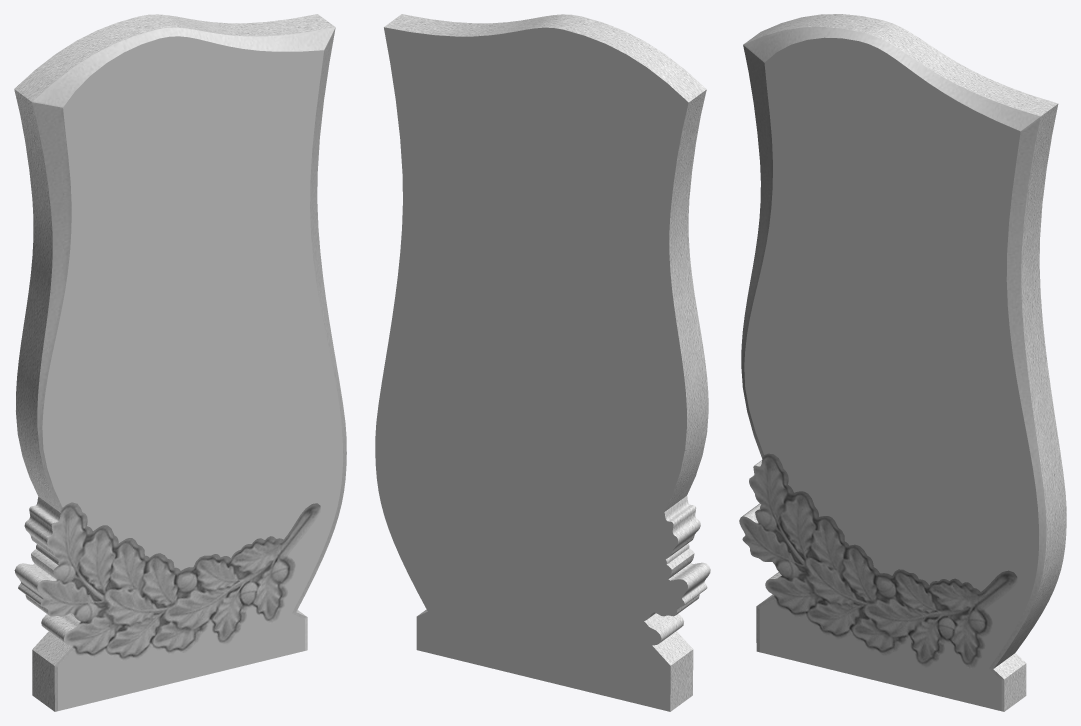
File: cn9022daf957_tkf.glb
3 views of the same model, side by side, from view 1: azimuth 30°, elevation 25°; view 2: azimuth 150°, elevation 25°; view 3: azimuth 330°, elevation 25° (orthographic). The views are drawn at different scales.
Parts seen in each view (by area): view 1: Pam-d03-073, Pam-d03-073_2_notexture; view 2: Pam-d03-073, Pam-d03-073_2_notexture; view 3: Pam-d03-073, Pam-d03-073_2_notexture.
Part boxes in pixels (x1,y1,x2,y2): Pam-d03-073: (42,36,342,710); Pam-d03-073_2_notexture: (14,14,346,711); Pam-d03-073: (375,27,688,711); Pam-d03-073_2_notexture: (384,14,710,711); Pam-d03-073: (744,37,1038,711); Pam-d03-073_2_notexture: (739,14,1066,711).
Bounding box in the file's own units: 0.4 × 0.8 × 0.05.
1 material, 1 textured.
